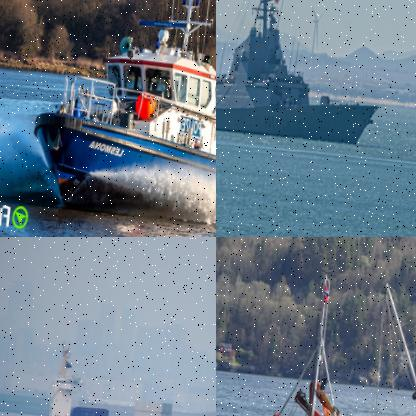Fishing Boat: (230, 237, 415, 415)
Merchant Ship: (0, 333, 215, 415)
Military Ship: (216, 0, 398, 148)
Patrol Boat: (25, 0, 215, 230)
